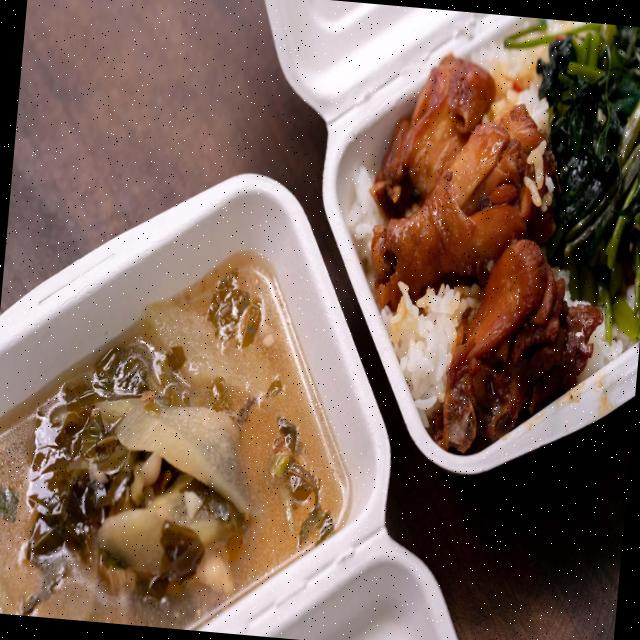styrofoam: (0, 150, 502, 640), (222, 0, 640, 489)
